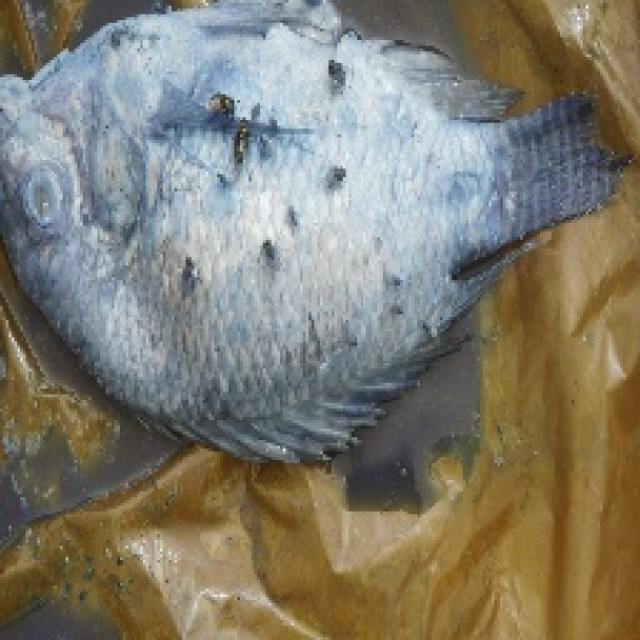Non-Fresh: (0, 0, 534, 420), (19, 154, 90, 242)
